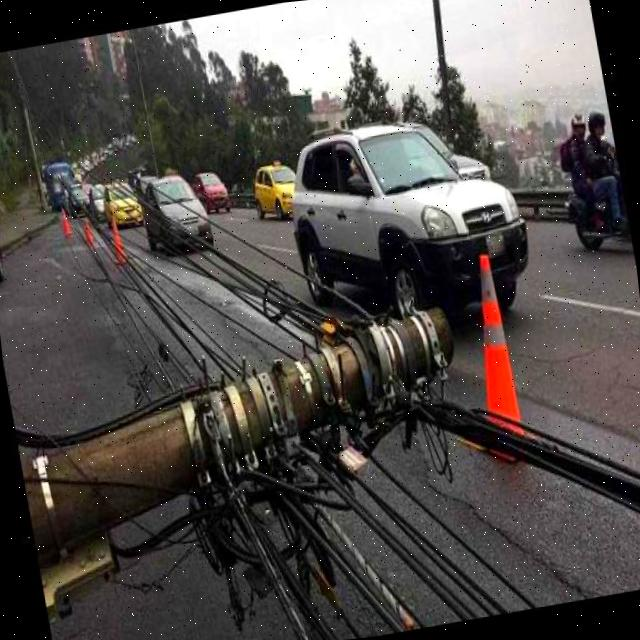Broken Pole: (21, 303, 464, 616)
